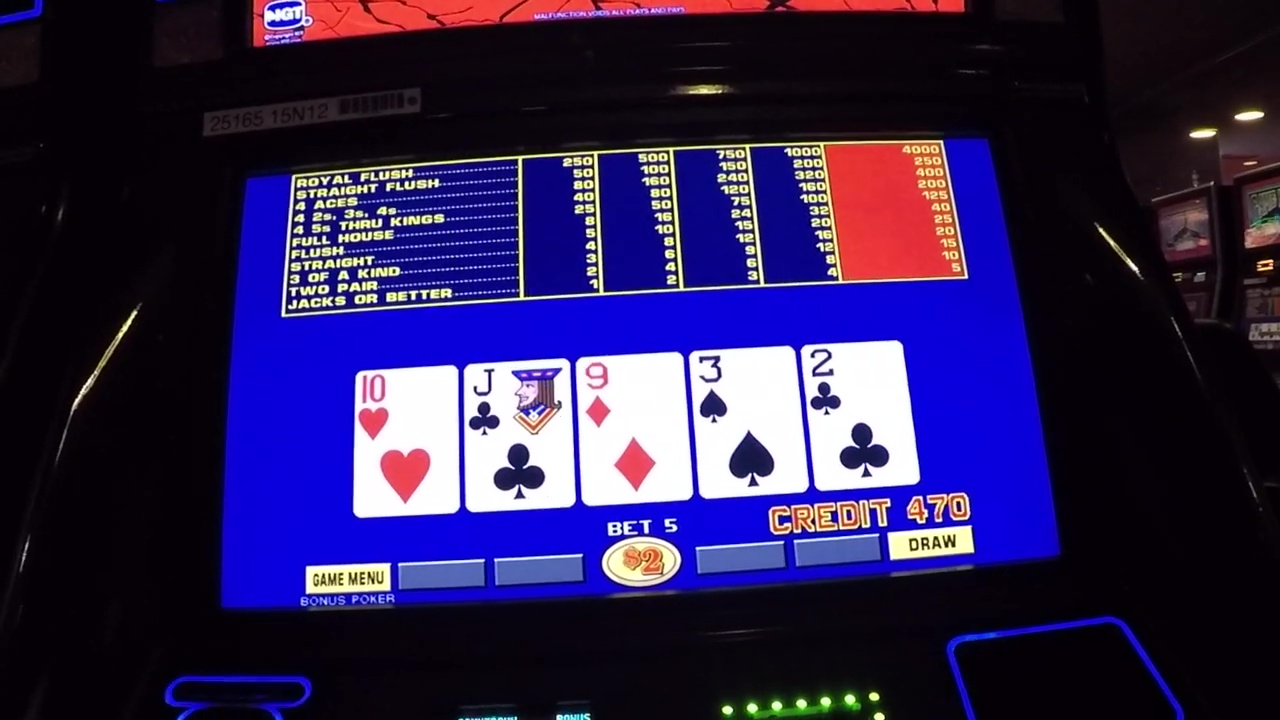C2: (807, 345, 901, 413)
CJ: (467, 367, 569, 438)
D9: (580, 356, 684, 432)
HT: (358, 371, 456, 448)
S3: (694, 353, 795, 421)
